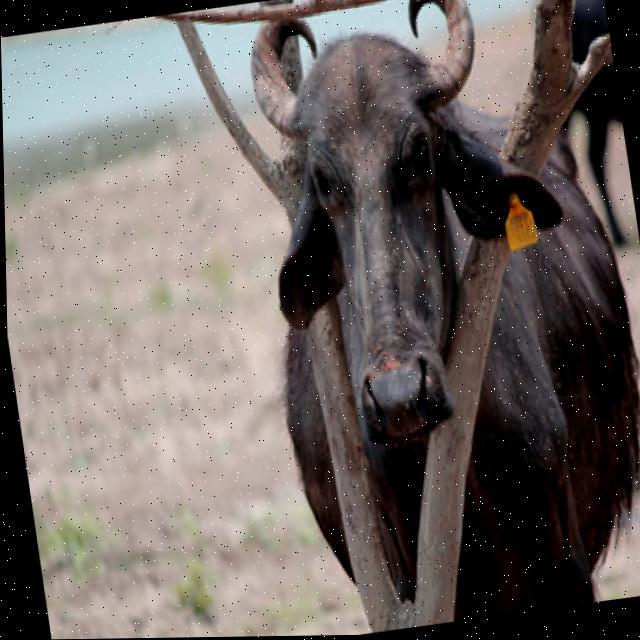Buffalo: (224, 0, 640, 637)
